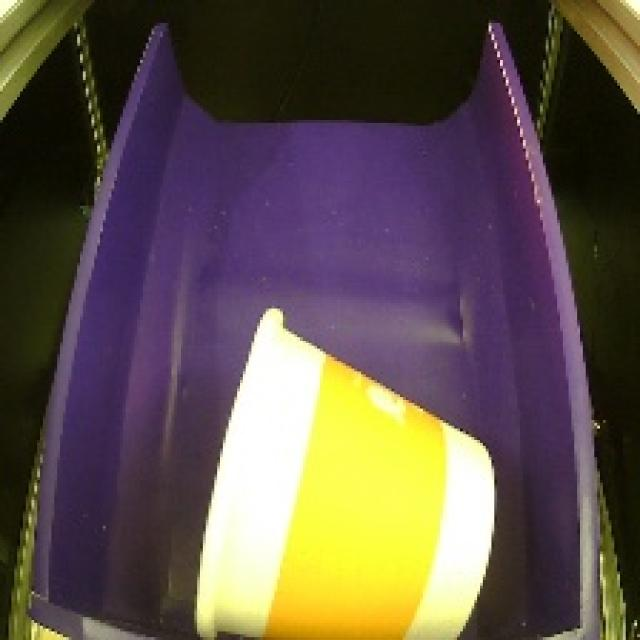cups: (177, 291, 507, 640)
